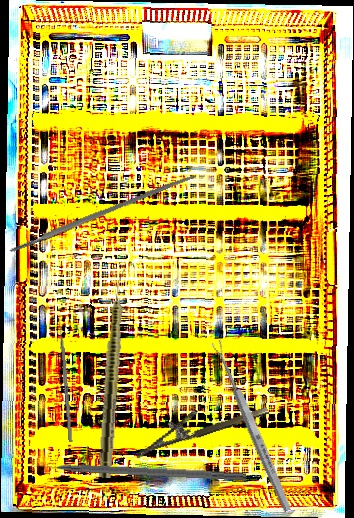Handpiece: (97, 267, 129, 479)
Hook Surgical: (29, 459, 247, 481)
Needle Holder: (128, 388, 270, 459)
Pusher: (57, 312, 73, 442)
Scalpel Handle: (7, 171, 197, 255)
Surgical Spoon: (210, 338, 294, 514)
